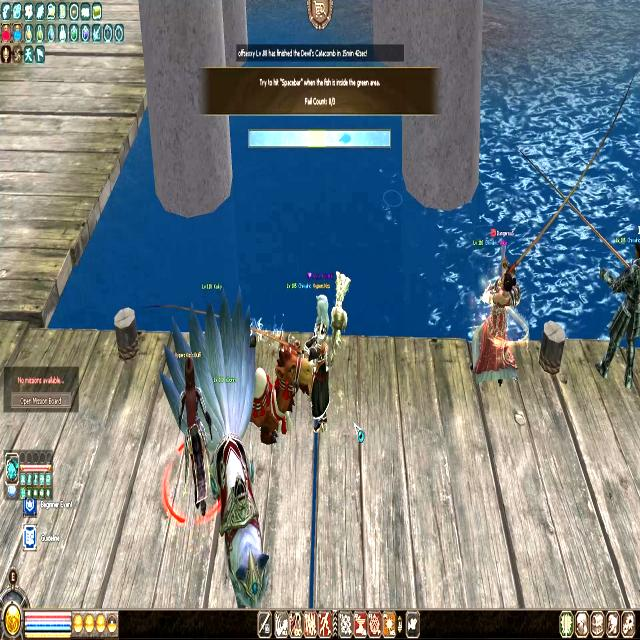fishes: (338, 131, 352, 145)
